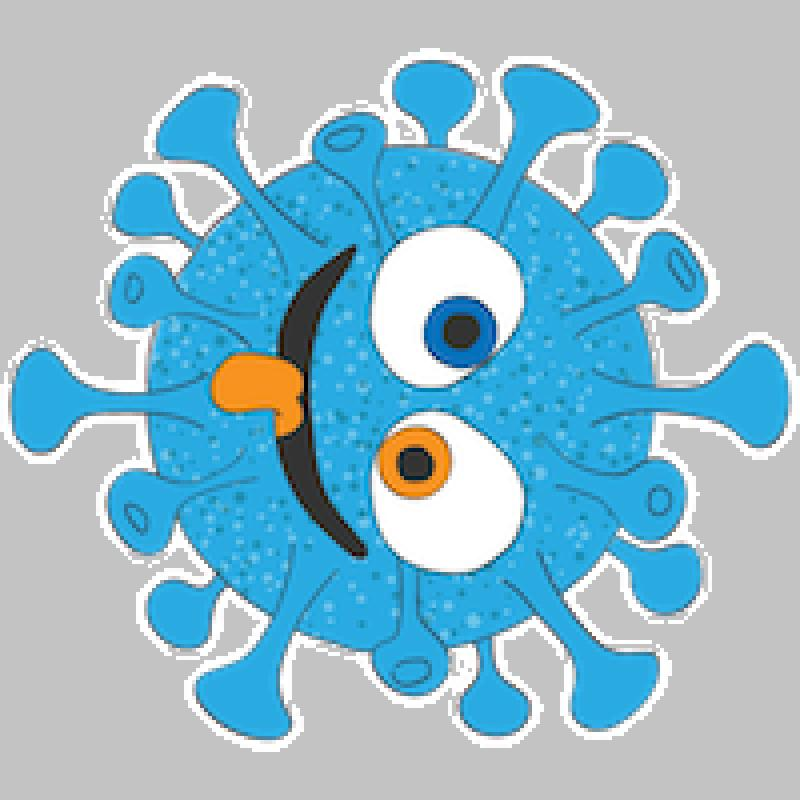corona3: (0, 4, 797, 799)
